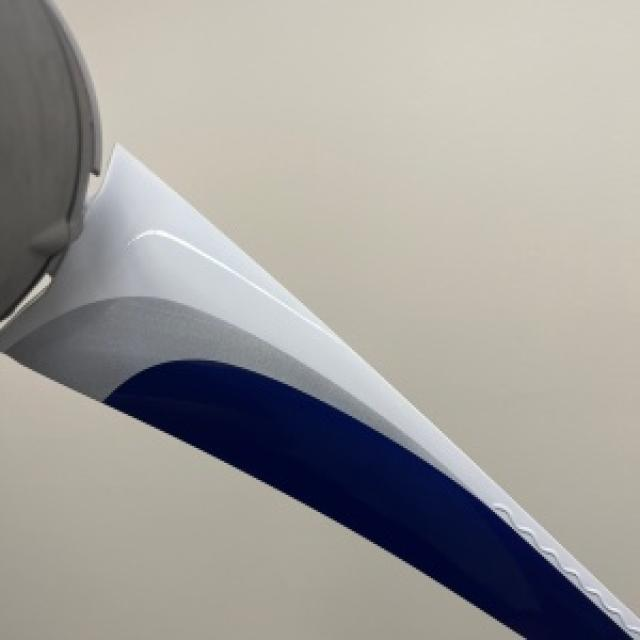healthy: (0, 356, 512, 638)
